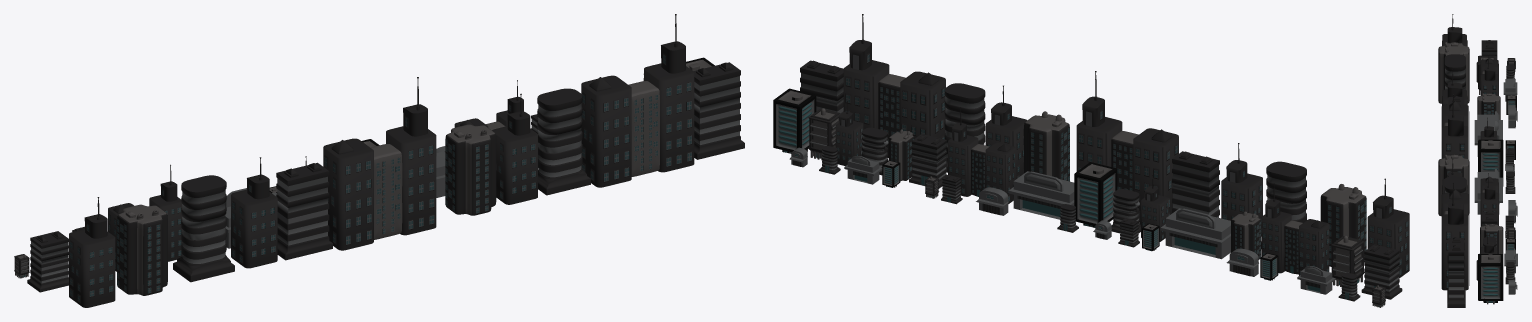
Rendered from Eco Digital Predios.fbx.
3 views of the same model, side by side, from view 1: azimuth 30°, elevation 25°; view 2: azimuth 150°, elevation 25°; view 3: azimuth 270°, elevation 25° (orthographic). The views are drawn at different scales.
Visible parts, largest first — view 1: Cube.071, Cube.057, Cube.043, Cube.049, Cube, Cube.076, Cube.048, Cube.075, Cube.046, Cube.073, Cube.072, Cube.087 (+13 smaller); view 2: Cube.057, Cube.081, Cube.046, Cube.048, Cube.056, Cube.002, Cube.040, Cube.076, Cube.049, Cube.043, Cube.075, Cube.073 (+41 smaller); view 3: Cube.048, Cube.002, Cube, Cube.075, Cube.056, Cube.046, Cube.073, Cube.071, Cube.081, Cube.040, Cube.027, Cube.062 (+37 smaller).
Boxes of the visible parts, bbox=[...] form: Cube.071: bbox=[173, 175, 234, 282]; Cube.057: bbox=[276, 162, 332, 260]; Cube.043: bbox=[537, 88, 590, 195]; Cube.049: bbox=[581, 75, 631, 187]; Cube: bbox=[693, 62, 744, 159]; Cube.076: bbox=[323, 138, 373, 250]; Cube.048: bbox=[644, 14, 694, 172]; Cube.075: bbox=[386, 77, 436, 235]; Cube.046: bbox=[445, 124, 496, 215]; Cube.073: bbox=[117, 204, 167, 295]; Cube.072: bbox=[231, 157, 277, 268]; Cube.087: bbox=[69, 197, 115, 307]; Cube.057: bbox=[1172, 151, 1219, 217]; Cube.081: bbox=[1160, 208, 1230, 259]; Cube.046: bbox=[1024, 111, 1069, 181]; Cube.048: bbox=[843, 14, 889, 129]; Cube.056: bbox=[1074, 162, 1117, 227]; Cube.002: bbox=[773, 88, 816, 153]; Cube.040: bbox=[1008, 171, 1074, 219]; Cube.076: bbox=[1133, 128, 1178, 224]; Cube.049: bbox=[900, 71, 945, 138]; Cube.043: bbox=[944, 83, 985, 172]; Cube.075: bbox=[1076, 71, 1122, 171]; Cube.073: bbox=[1320, 184, 1366, 266]; Cube.048: bbox=[1441, 182, 1468, 290]; Cube.002: bbox=[1478, 254, 1503, 302]; Cube: bbox=[1447, 237, 1465, 307]; Cube.075: bbox=[1441, 94, 1468, 159]; Cube.056: bbox=[1478, 139, 1503, 186]; Cube.046: bbox=[1438, 154, 1469, 216]; Cube.073: bbox=[1438, 42, 1469, 103]; Cube.071: bbox=[1444, 54, 1465, 89]; Cube.081: bbox=[1474, 111, 1502, 156]; Cube.040: bbox=[1474, 169, 1502, 214]; Cube.027: bbox=[1480, 173, 1498, 226]; Cube.062: bbox=[1477, 93, 1500, 119].
Bounding box in the file's own units: 65318 × 13464 × 9414.
